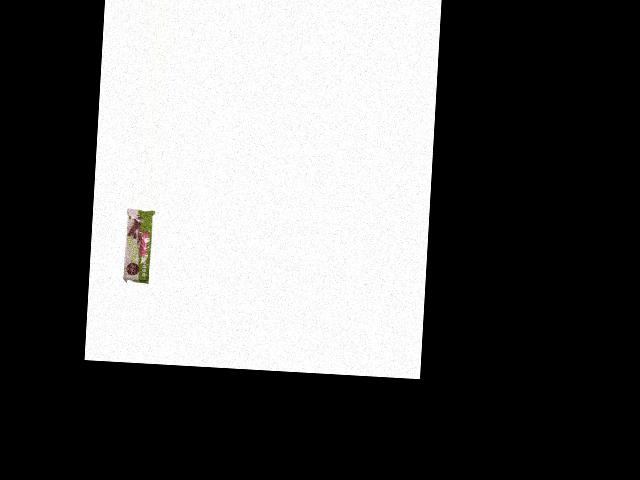chocolate: (119, 208, 154, 286)
